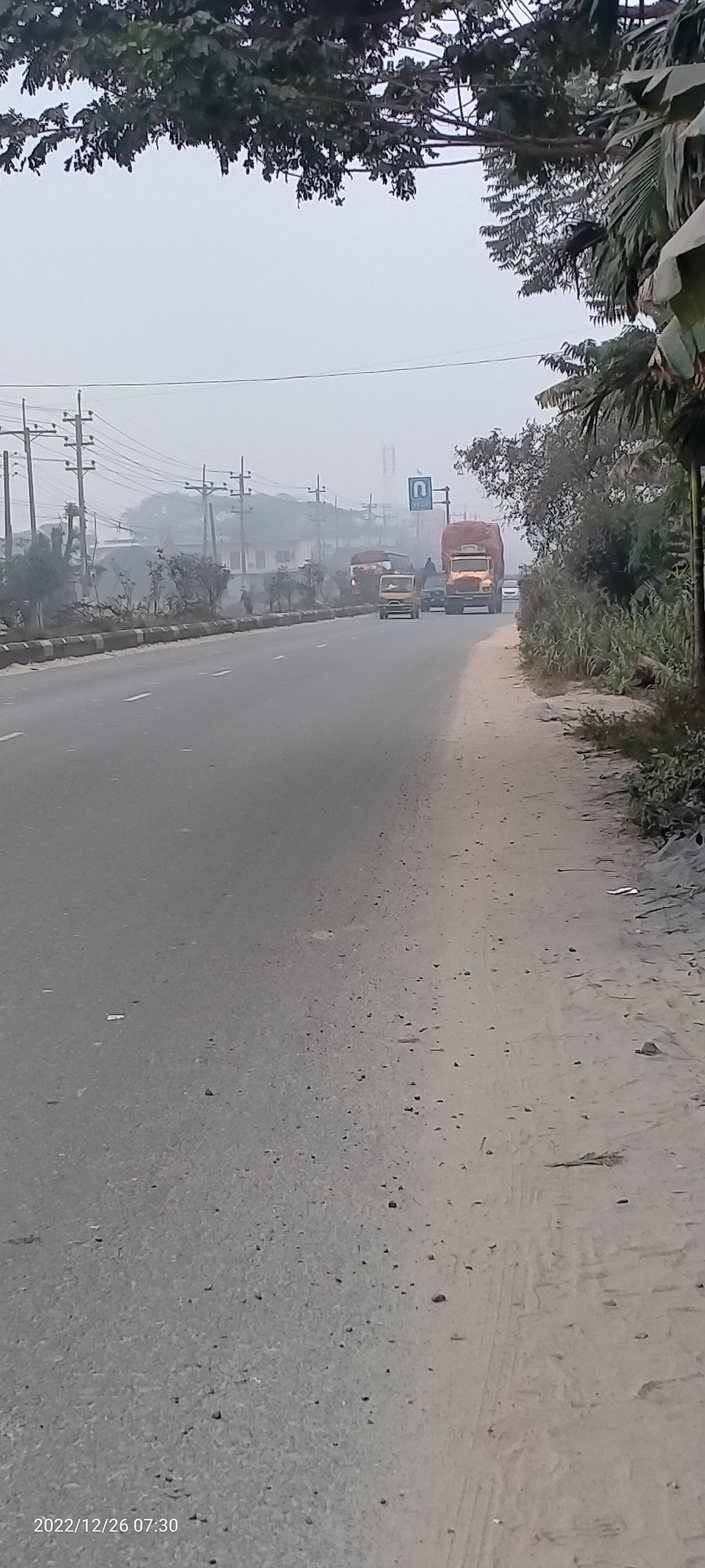Bus: (345, 543, 419, 592)
Car: (503, 571, 520, 606)
Truck: (440, 517, 510, 619), (376, 568, 423, 622)
